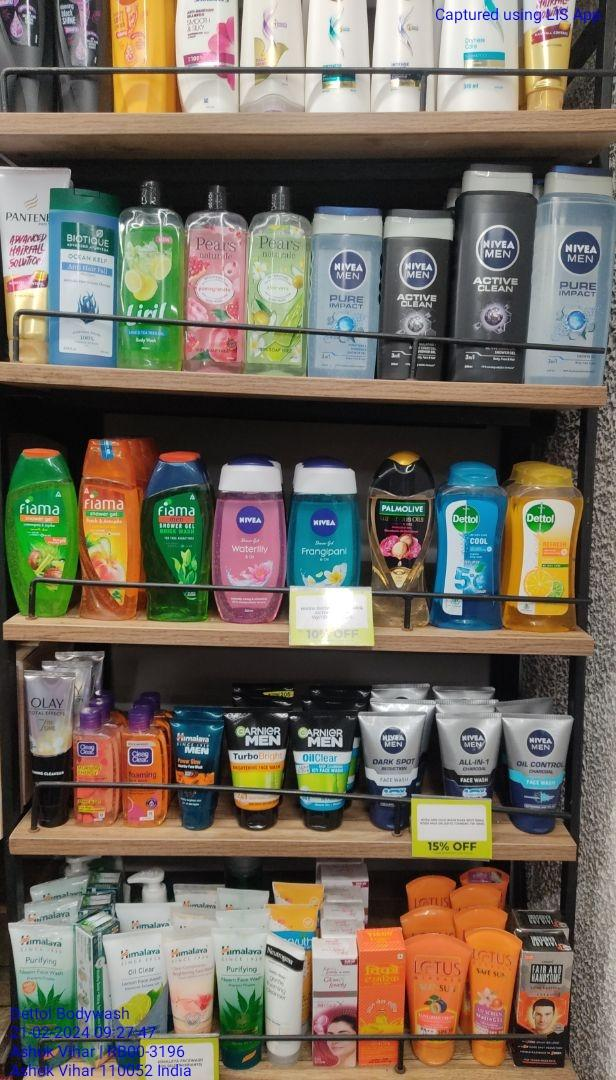Dettol_Bodywash_Cool: (435, 463, 503, 631)
Dettol_Bodywash_Refresh: (507, 468, 583, 632)
Fiama_Shower_Gel_Lemongrass_and_Jojoba_250ML: (3, 446, 79, 615)
Fiama_Shower_Gel_Peach_and_Avocado_250ML: (82, 443, 141, 622)
Liril_Lime_and_Tea_Tree_Oil_Body_Wash_250ML: (117, 179, 183, 370)
Nivea_Shower_Gel_Frangipani_and_Oil_250ML: (289, 460, 359, 584)
Nivea_Shower_Gel_Waterlily_and_Oil_250ML: (212, 463, 285, 624)
Palmolive_Luminous_Oils_Invigorating_Macadamia_Oil_With_Peony_250ML: (371, 454, 433, 624)
Pears_Naturale_Aloe_Vera_Body_Wash_250ML: (246, 186, 307, 377)
